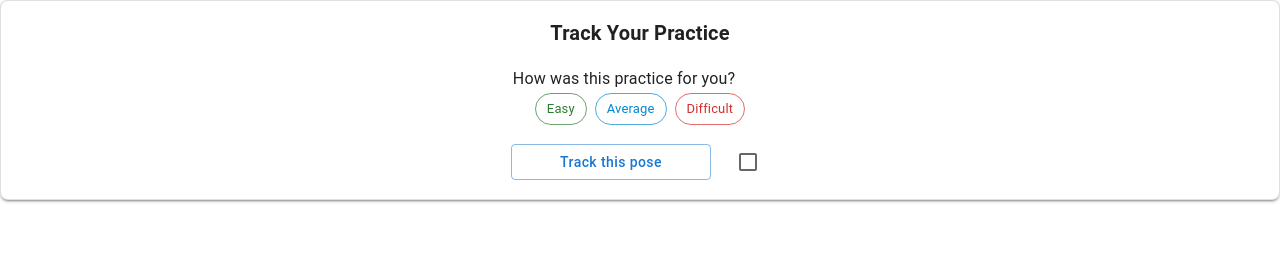
Scenario: ActivityTracker Component › Error Handling Tests › should display error message when createActivity fails
This screenshot has width=1280, height=256.
Click the button "Easy" at (561, 109), box [535, 93, 587, 125]
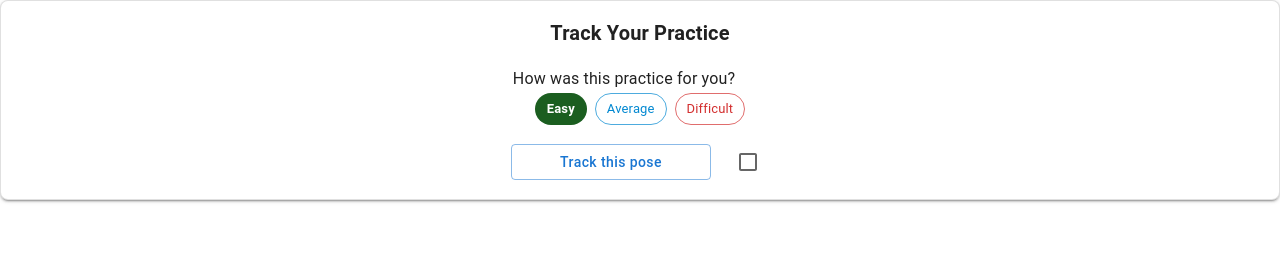
Click the button "Track this pose" at (611, 162), box [511, 144, 711, 180]
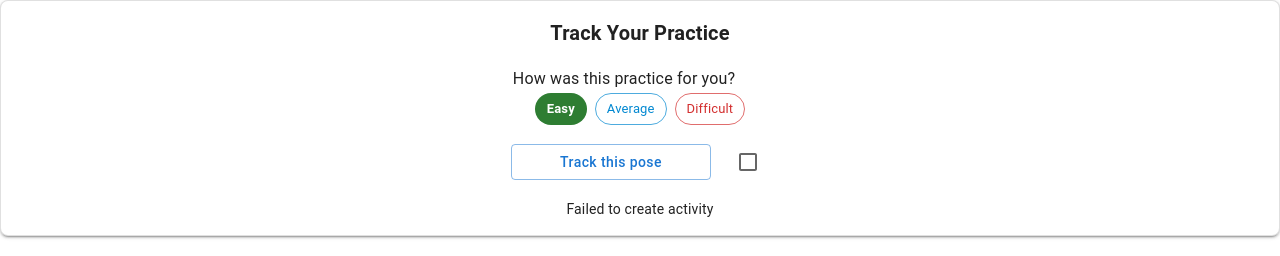
Result: the text "Failed to create activity" is shown at [566, 201, 714, 217]
